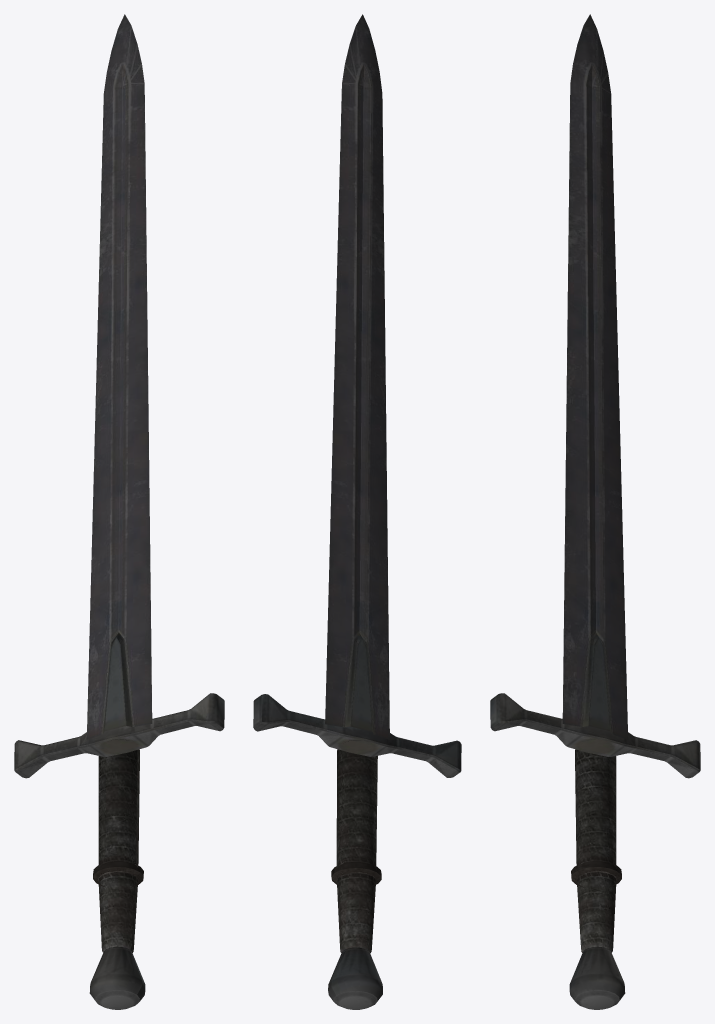
File: sword.glb
3 views of the same model, side by side, from view 1: azimuth 30°, elevation 25°; view 2: azimuth 150°, elevation 25°; view 3: azimuth 330°, elevation 25° (orthographic).
Visible parts, largest first — view 1: bastardsword_weapons_0; view 2: bastardsword_weapons_0; view 3: bastardsword_weapons_0.
Part boxes in pixels (left/top/right/bottom): bastardsword_weapons_0: left=14, top=14, right=224, bottom=1009; bastardsword_weapons_0: left=253, top=14, right=461, bottom=1009; bastardsword_weapons_0: left=490, top=14, right=700, bottom=1009.
Bounding box in the file's own units: 0.2875 × 1.34 × 0.0686.
1 material, 1 textured.
